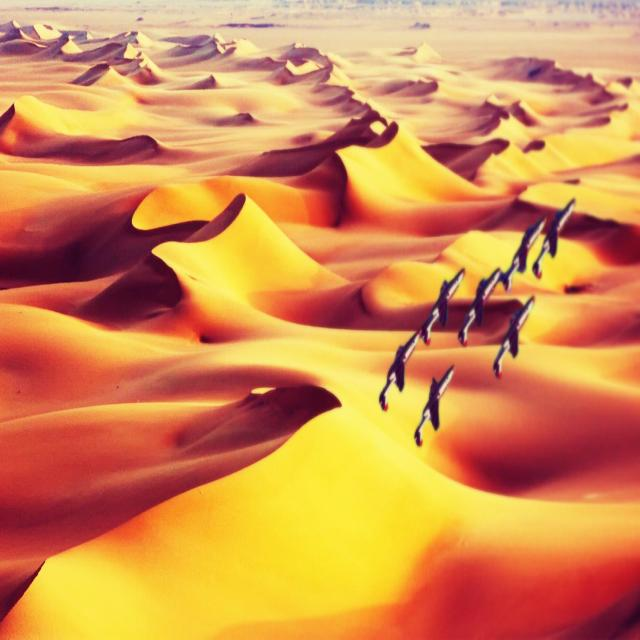airplane: (414, 359, 456, 449), (532, 193, 576, 278), (499, 214, 546, 292), (379, 329, 423, 412), (422, 265, 466, 346), (498, 295, 537, 378), (460, 265, 499, 345)
